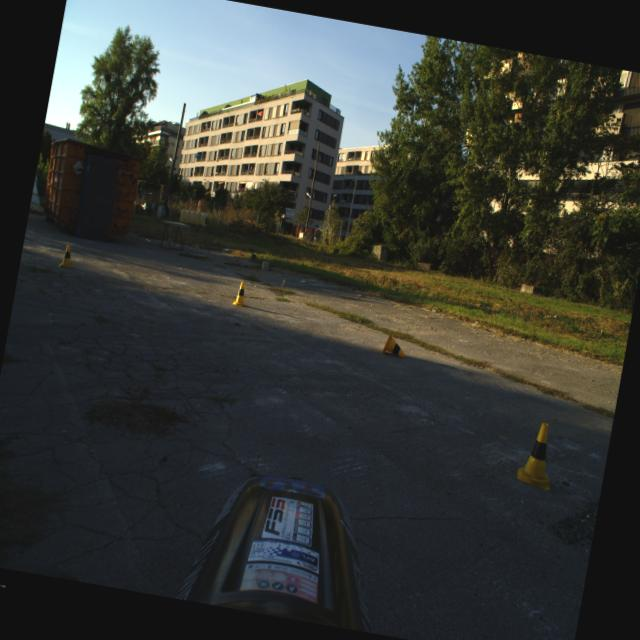yellow_cone: (515, 420, 560, 490), (381, 331, 408, 358), (56, 243, 78, 269), (230, 280, 250, 307)
